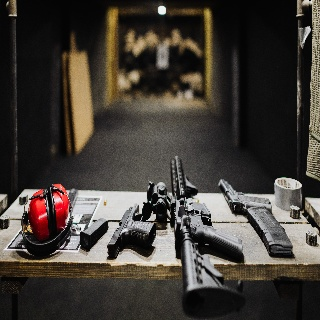pistol: (108, 202, 156, 262), (216, 175, 274, 212)
rifle: (145, 155, 248, 320)
